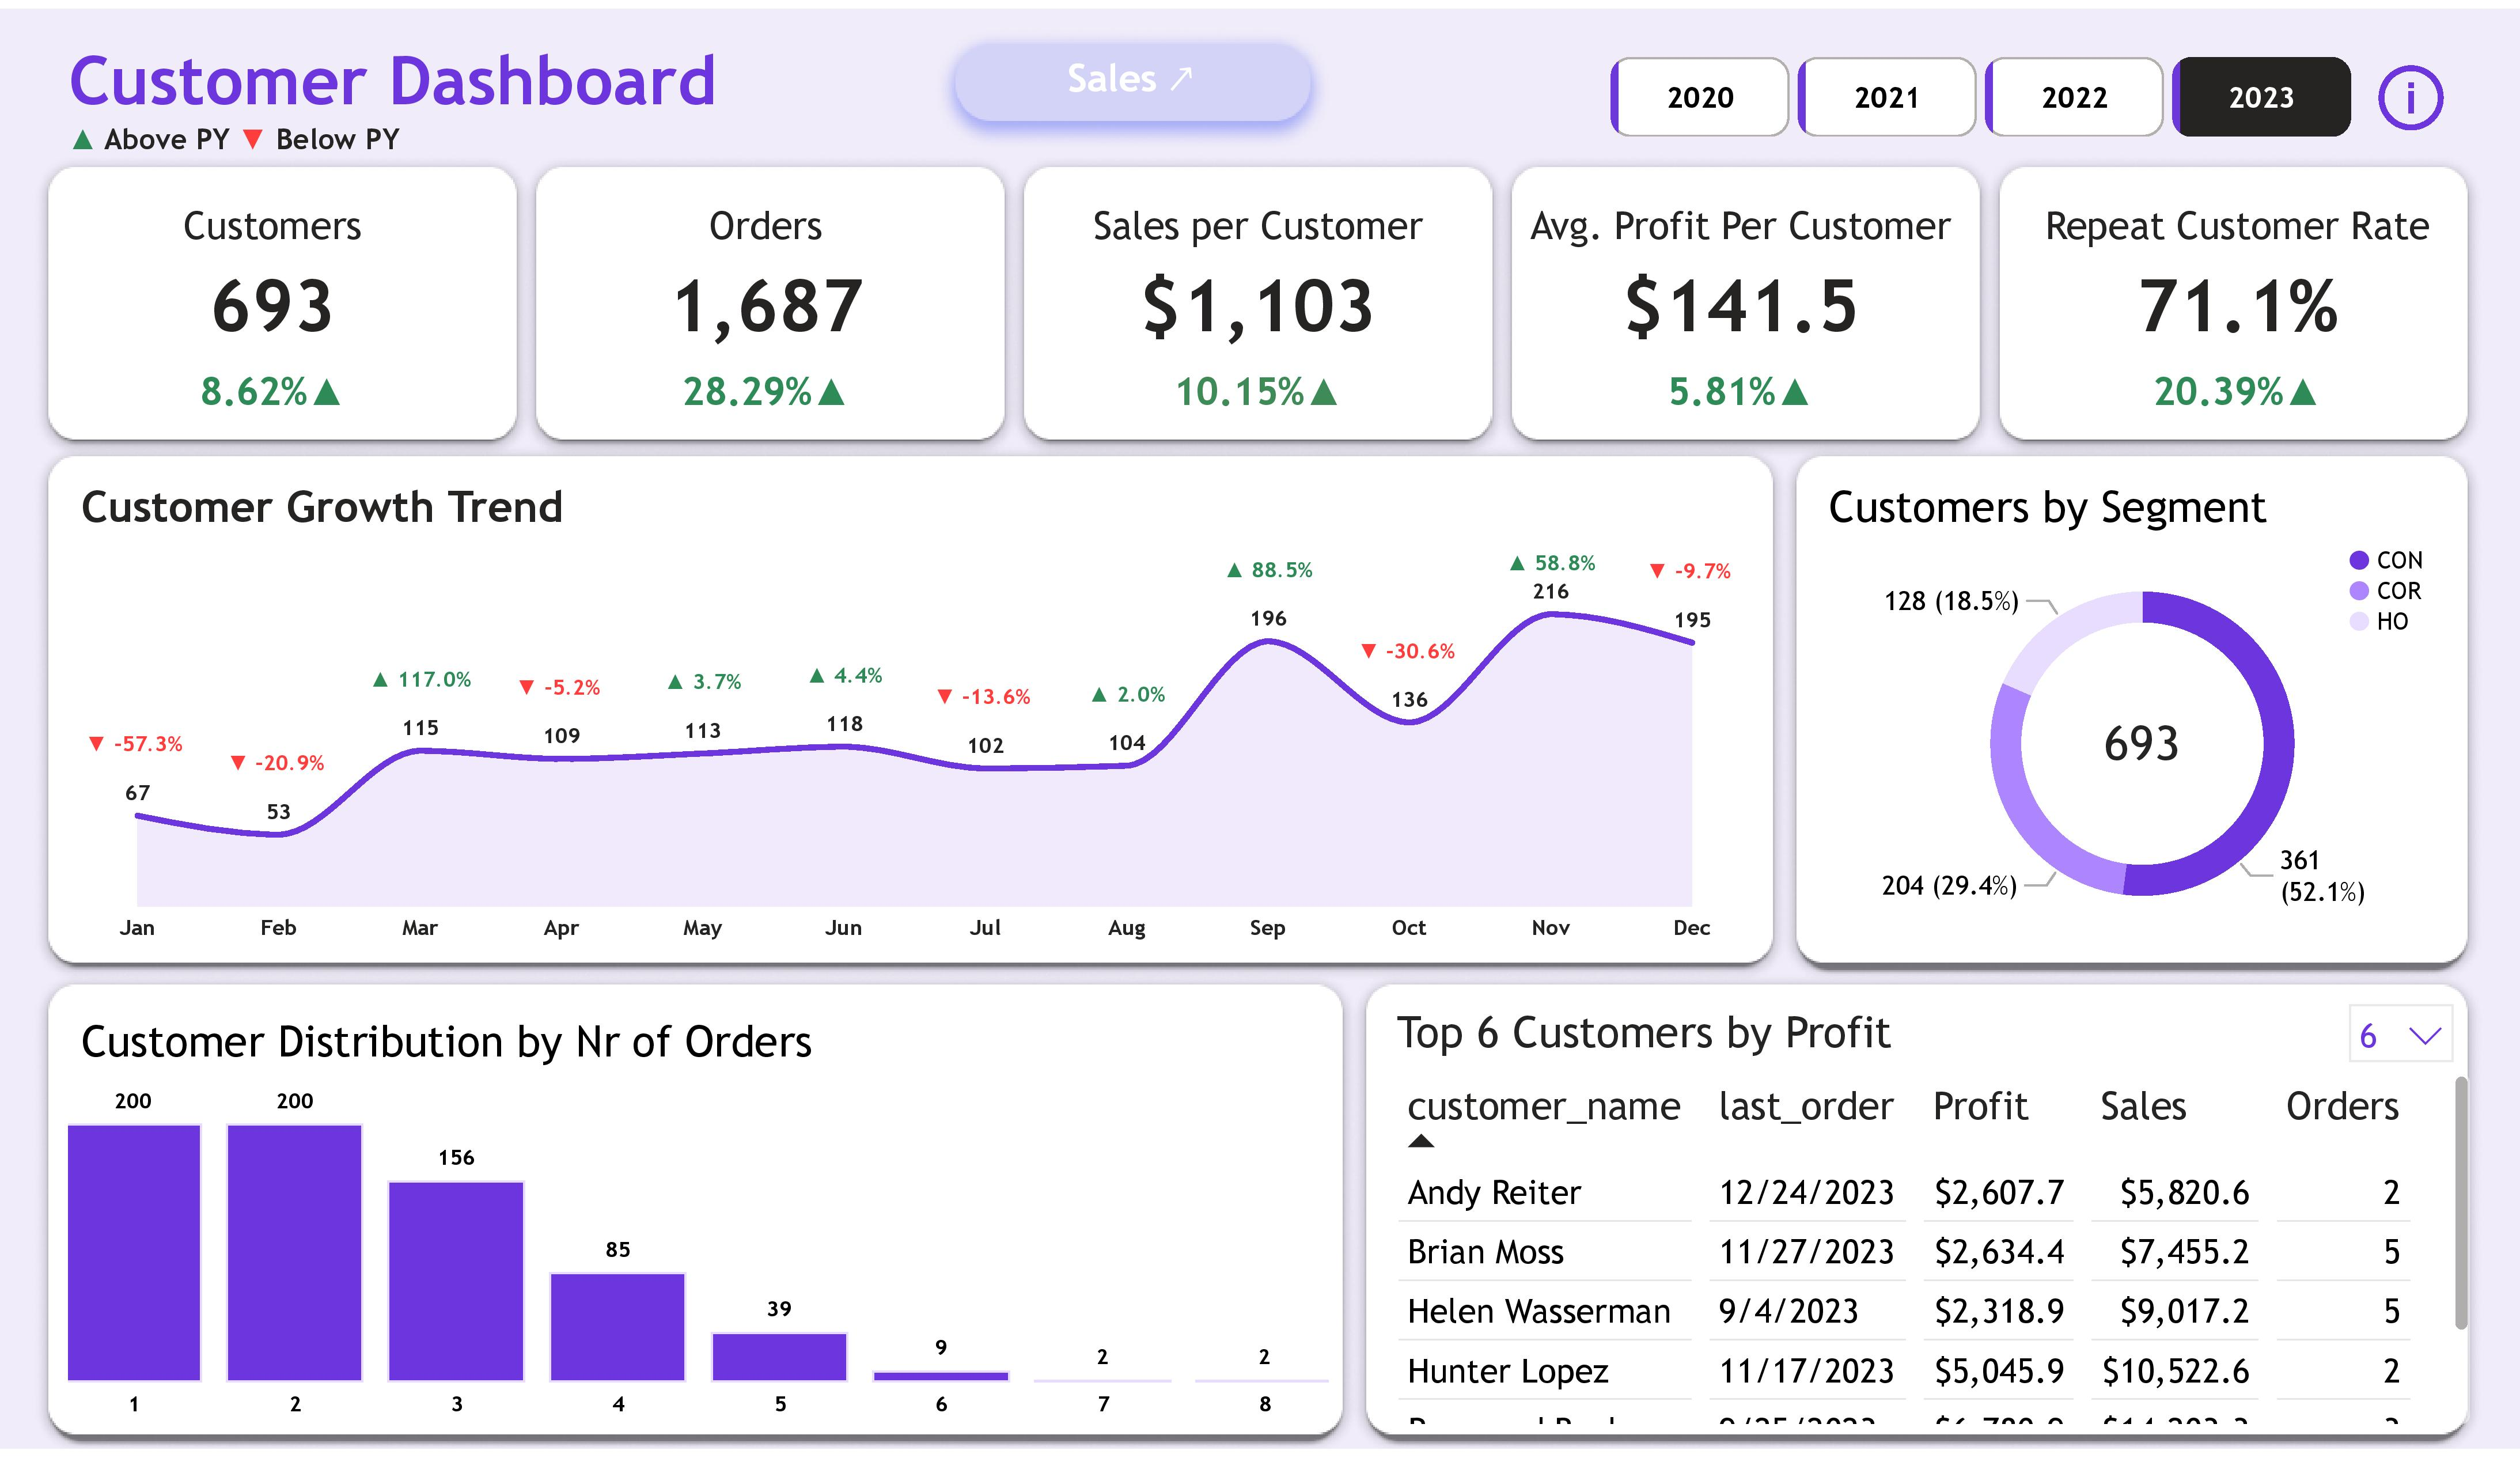

The page's visual inventory and layout, read from the dashboard file:
{"tool":"powerbi","page":{"name":"Customer Dashboard","canvas":[1400,800],"ordinal":3},"visuals":[{"type":"donutChart","fields":{"Category":["fact_orders.segment"],"Y":["Measure.Customers"]},"box":[1010.6,261.9,358.5,264.6],"z":0},{"type":"clusteredColumnChart","title":"Customer Distribution by Nr of Orders","fields":{"Y":["Measure.Customers"],"Category":["dim_customers.Orders"]},"box":[33.1,586,710.3,205],"z":1000},{"type":"card","fields":{"Values":["Measure.Customers"]},"box":[1154.8,388,70.1,39.7],"z":2000},{"type":"textbox","box":[39.7,554.2,428.6,43.7],"z":3000},{"type":"cardVisual","fields":{"Data":["Measure.Customers"]},"box":[48.9,91.3,205,149.5],"z":4000},{"type":"cardVisual","fields":{"Data":["Measure.Sales per Customer"]},"box":[574.1,91.3,250,149.5],"z":5000},{"type":"cardVisual","fields":{"Data":["Measure.Avg. Profit Per Customer"]},"box":[830.7,91.3,272.5,149.5],"z":6000},{"type":"cardVisual","fields":{"Data":["Measure.Repeat Customer Rate"]},"box":[1117.7,91.3,250,149.5],"z":7000},{"type":"cardVisual","fields":{"Data":["Measure.Orders"]},"box":[326,91.3,199.7,149.5],"z":8000},{"type":"textbox","box":[33.1,13.2,406.1,66.1],"z":9000},{"type":"advancedSlicerVisual","fields":{"Values":["Date.Year"]},"box":[870,22,464,54.2],"z":10000},{"type":"areaChart","title":"Customer Growth Trend","fields":{"Category":["Date.Month"],"Y":["Measure.Customers","Measure.Label2 Cust"]},"box":[39.7,261.9,936.5,264.6],"z":11000},{"type":"textbox","box":[33,58,210.3,33.1],"z":12000},{"type":"tableEx","fields":{"Values":["dim_customers.customer_name","fact_orders.order_date","Measure.Profit","Measure.Sales","Measure.Orders YTD"]},"box":[771,554,605.8,237.4],"z":13000},{"type":"actionButton","box":[529.1,21.2,198.4,37],"z":14000},{"type":"slicer","fields":{"Values":["Top N Customers.Top N Customers"]},"box":[1300.3,547.6,67.9,37.9],"z":15000},{"type":"actionButton","box":[1316,25,47,49],"z":16000},{"type":"textbox","box":[1300.3,292.3,68.8,71.4],"z":18000}]}

Visuals, with their boxes in screenshot pixels (x1, y1, x2, y2), scaled from the page's 1400x800 canvas onto the 2520x1458 screenshot:
donutChart - fact_orders.segment x Measure.Customers: [1819,478,2464,960]
"Customer Distribution by Nr of Orders" clusteredColumnChart: [59,1068,1338,1442]
card - Measure.Customers: [2079,707,2205,779]
textbox: [71,1010,843,1090]
cardVisual - Measure.Customers: [88,166,457,439]
cardVisual - Measure.Sales per Customer: [1033,166,1483,439]
cardVisual - Measure.Avg. Profit Per Customer: [1495,166,1986,439]
cardVisual - Measure.Repeat Customer Rate: [2012,166,2462,439]
cardVisual - Measure.Orders: [587,166,946,439]
textbox: [59,24,791,145]
advancedSlicerVisual - Date.Year: [1566,40,2401,139]
"Customer Growth Trend" areaChart: [71,478,1757,960]
textbox: [59,105,438,166]
tableEx - dim_customers.customer_name x fact_orders.order_date: [1388,1010,2478,1442]
actionButton: [952,39,1309,106]
slicer - Top N Customers.Top N Customers: [2340,998,2463,1067]
actionButton: [2369,46,2453,135]
textbox: [2340,533,2464,663]
